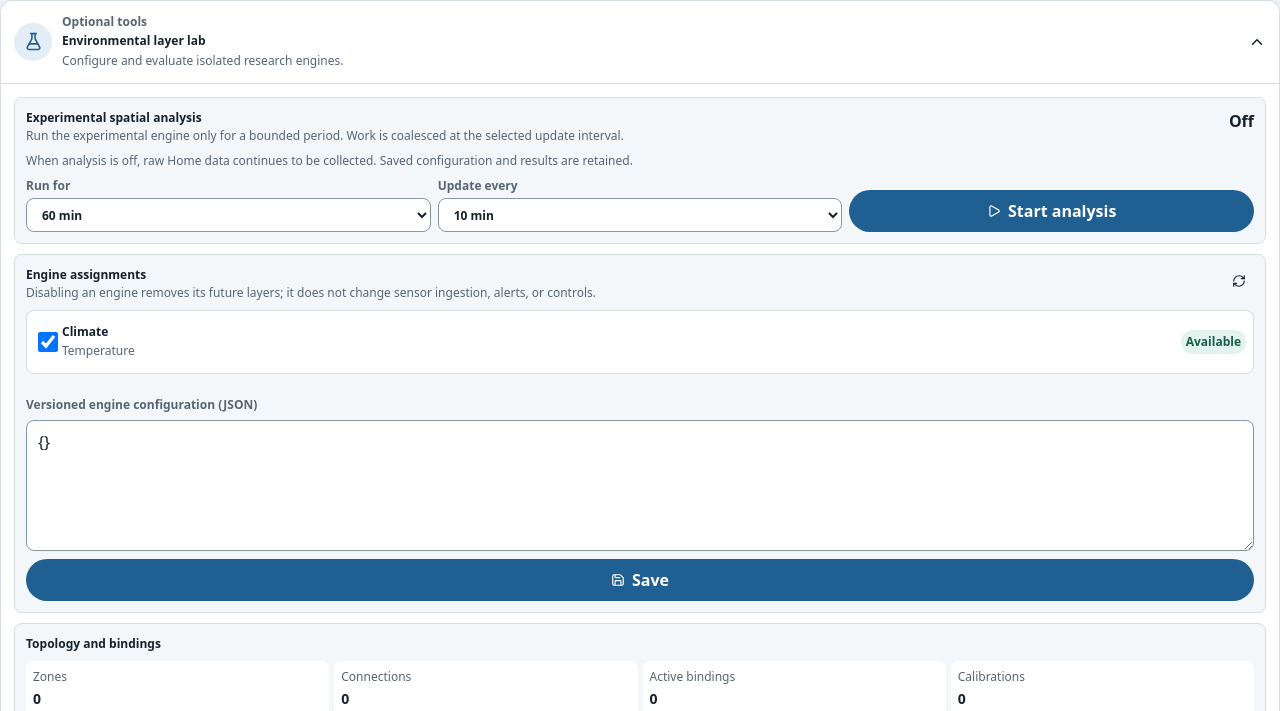
Scenario: SpatialLayerLab guided calibration › keeps inference off by default and starts and stops a bounded session
This screenshot has width=1280, height=711.
Expected: the heading "Experimental spatial analysis" is shown, [26, 109, 202, 126]
Expected: the text "Off" is shown, [1229, 109, 1254, 133]
Click the button "Start analysis": (1052, 211) [849, 190, 1254, 232]
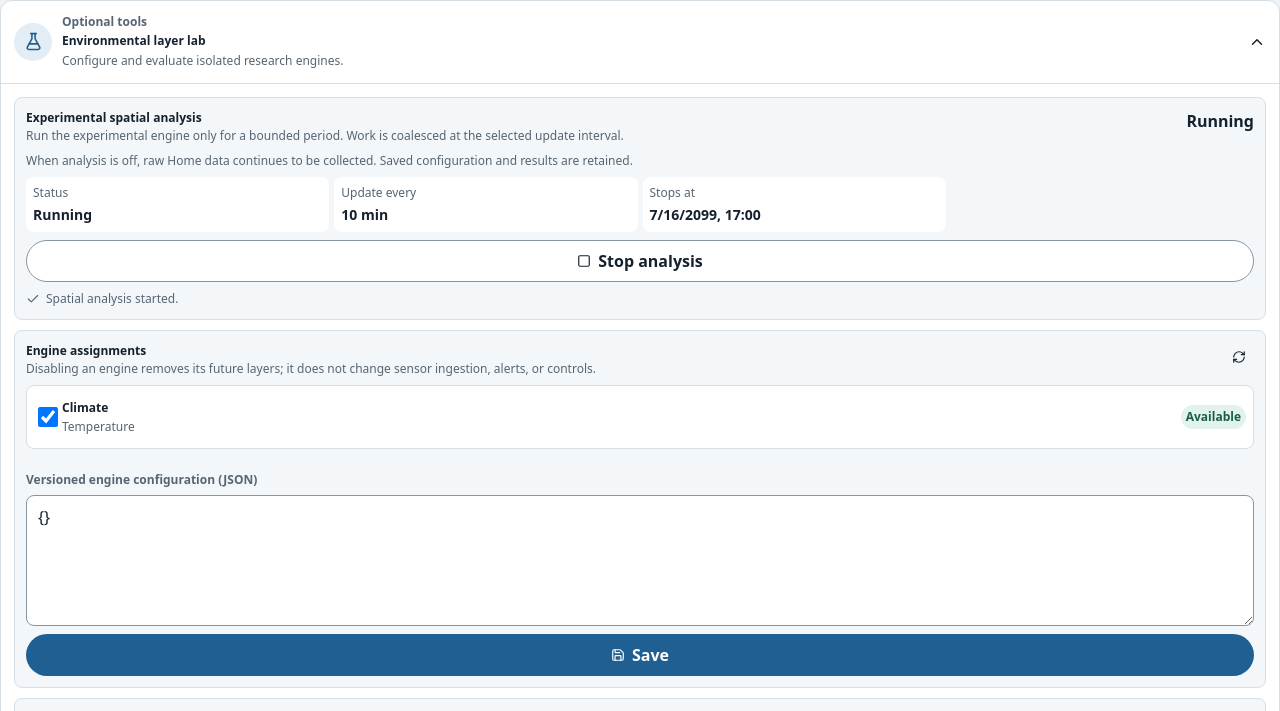
Now the text "Running" is shown, box [1186, 109, 1254, 133]
Now the text "Stops at" is shown, box [650, 184, 695, 201]
Click the button "Stop analysis": (640, 261) [26, 240, 1254, 282]
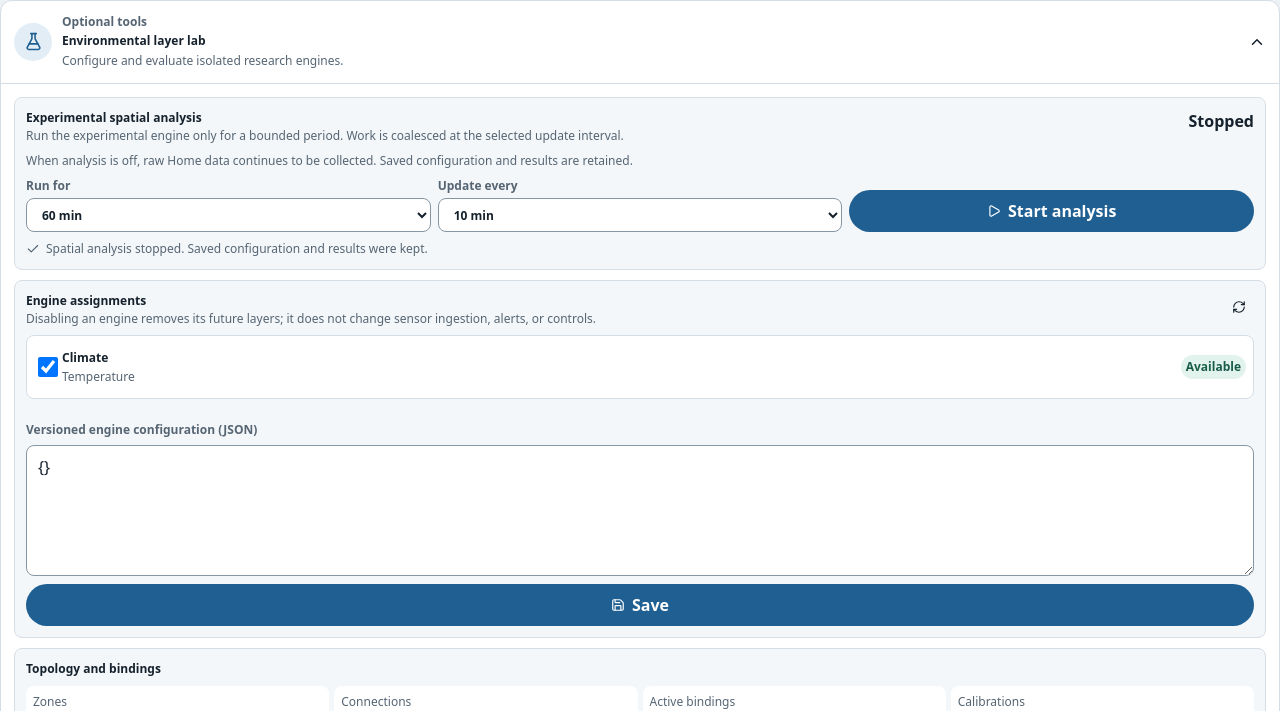
Now the text "Stopped" is shown, box [1188, 109, 1254, 133]
